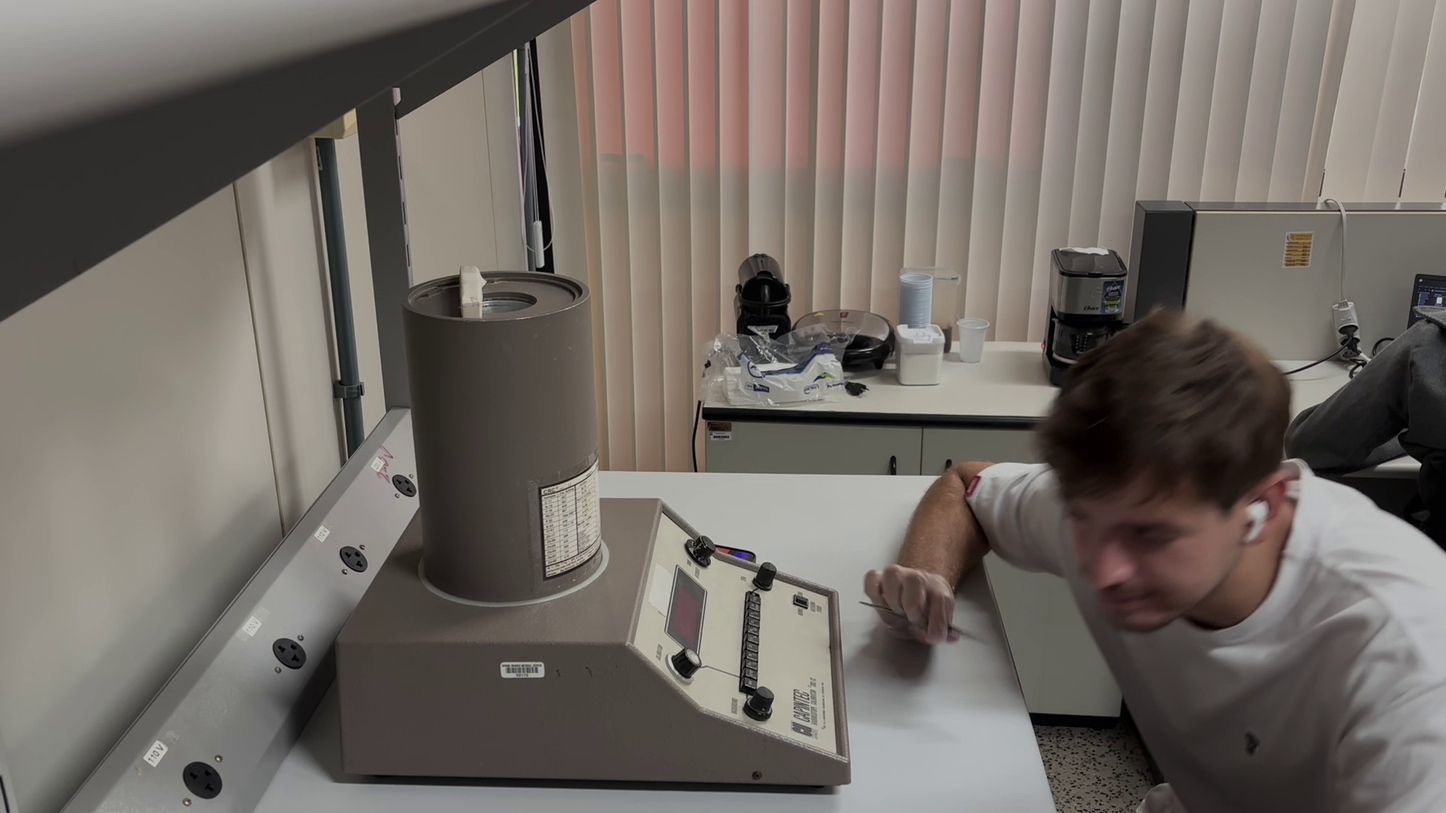Ativimetro: (398, 267, 609, 606)
Com_Luva: (863, 563, 959, 648)
